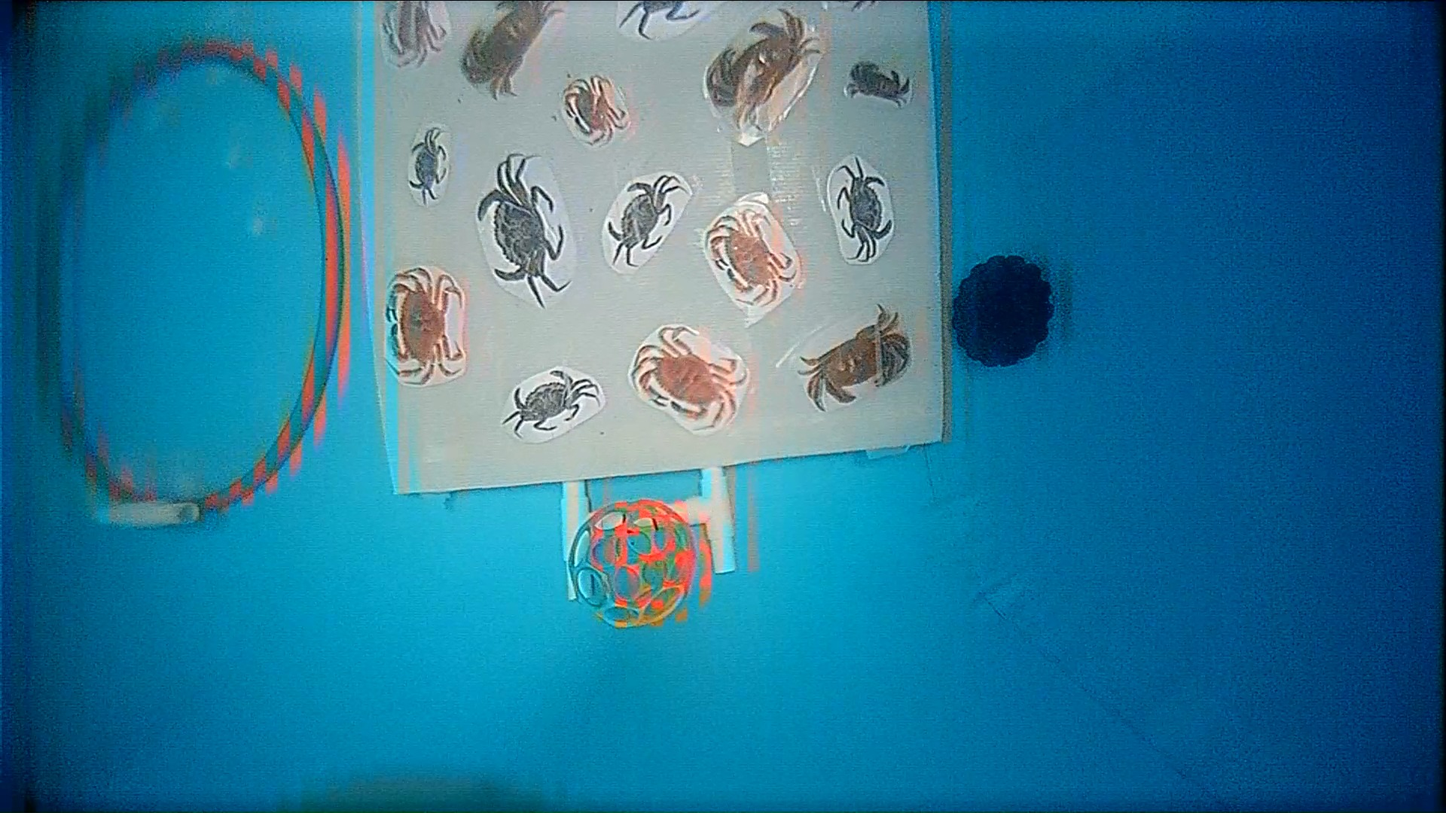GreenCrab: (478, 154, 569, 306), (606, 175, 682, 266), (502, 370, 596, 436), (838, 159, 892, 261)
